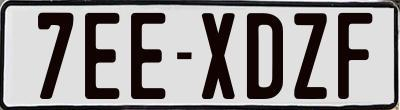7: (38, 10, 75, 98)
D: (246, 13, 284, 101)
E: (131, 10, 167, 102), (85, 12, 119, 99)
F: (335, 10, 369, 100)
X: (201, 11, 240, 99)
Z: (294, 11, 329, 97)
